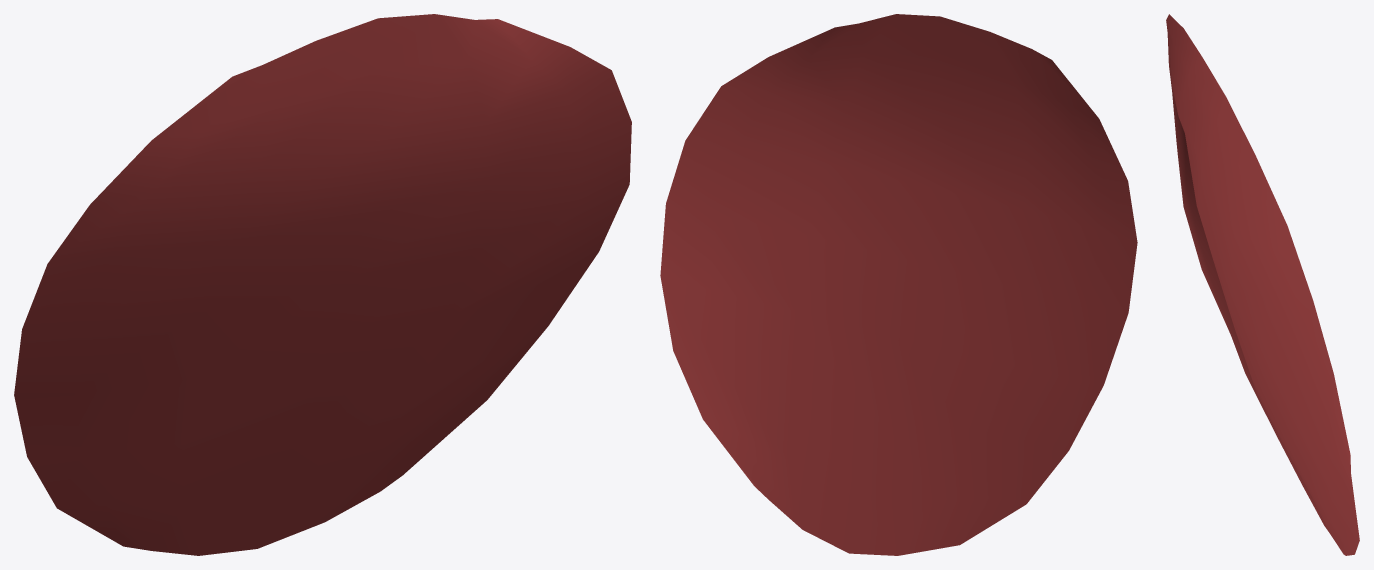
The model's file is subfacial-prepatellar-bursa-r.glb.
The picture shows the model from 3 angles, left to right: view 1: azimuth 30°, elevation 25°; view 2: azimuth 150°, elevation 25°; view 3: azimuth 270°, elevation 25°; orthographic projection. The views are drawn at different scales.
Visible parts, largest first — view 1: Subfacial prepatellar bursa.r; view 2: Subfacial prepatellar bursa.r; view 3: Subfacial prepatellar bursa.r.
Boxes of the visible parts, x1,y1,x2,y2 form: Subfacial prepatellar bursa.r: (14, 14, 631, 555); Subfacial prepatellar bursa.r: (660, 14, 1137, 555); Subfacial prepatellar bursa.r: (1166, 14, 1359, 555).
Bounding box in the file's own units: 0.0214 × 0.0208 × 0.00748.
